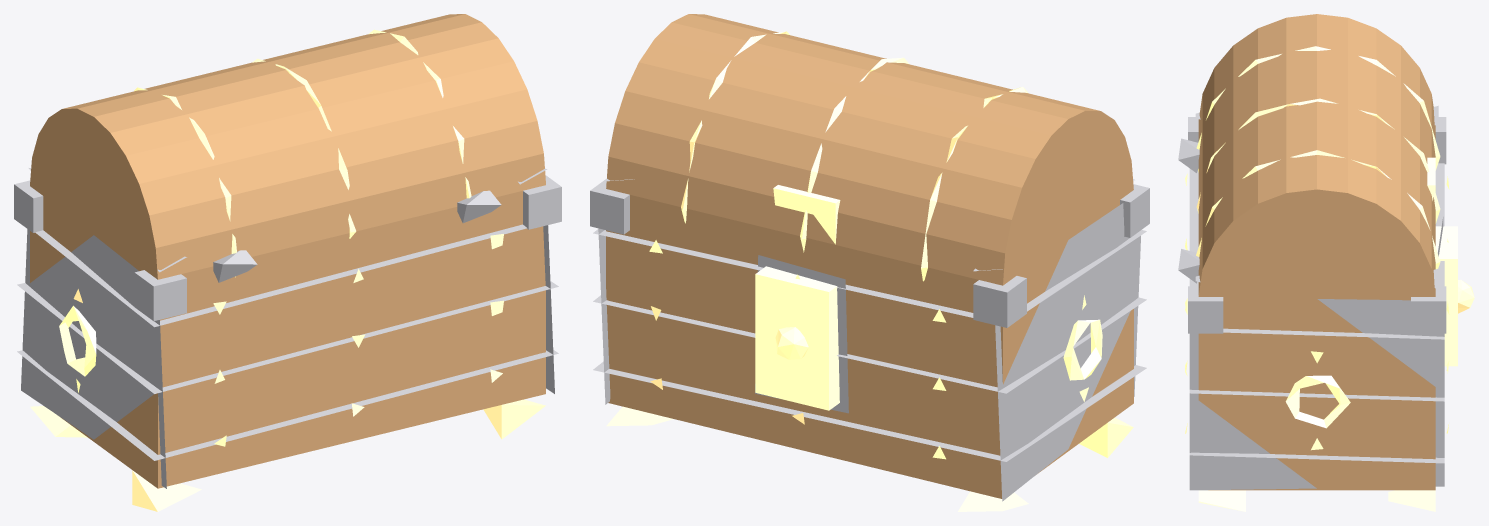
Rendered from 25-Ruinas-Templos_cofre_ancestral.glb.
3 views of the same model, side by side, from view 1: azimuth 30°, elevation 25°; view 2: azimuth 150°, elevation 25°; view 3: azimuth 270°, elevation 25° (orthographic). The views are drawn at different scales.
Visible parts, largest first — view 1: SM_Cofre_M_Madera_Cofre, SM_Cofre_M_Hierro_Cofre, SM_Cofre_M_Madera_Cofre_Osc, SM_Cofre_M_Bronce_Cofre, SM_Cofre_M_Oro_Cofre; view 2: SM_Cofre_M_Madera_Cofre, SM_Cofre_M_Hierro_Cofre, SM_Cofre_M_Oro_Cofre, SM_Cofre_M_Bronce_Cofre, SM_Cofre_M_Madera_Cofre_Osc, SM_Cofre_M_Gema_Cofre.001; view 3: SM_Cofre_M_Madera_Cofre, SM_Cofre_M_Hierro_Cofre, SM_Cofre_M_Oro_Cofre, SM_Cofre_M_Bronce_Cofre, SM_Cofre_M_Madera_Cofre_Osc, SM_Cofre_M_Gema_Cofre.001.
Part boxes in pixels (<box>): SM_Cofre_M_Madera_Cofre: <box>30,14,545,488</box>; SM_Cofre_M_Hierro_Cofre: <box>14,168,561,488</box>; SM_Cofre_M_Madera_Cofre_Osc: <box>30,399,545,511</box>; SM_Cofre_M_Bronce_Cofre: <box>73,29,503,446</box>; SM_Cofre_M_Oro_Cofre: <box>59,305,96,376</box>; SM_Cofre_M_Madera_Cofre: <box>606,14,1133,498</box>; SM_Cofre_M_Hierro_Cofre: <box>590,178,1149,501</box>; SM_Cofre_M_Oro_Cofre: <box>755,185,1102,410</box>; SM_Cofre_M_Bronce_Cofre: <box>649,31,1088,459</box>; SM_Cofre_M_Madera_Cofre_Osc: <box>606,406,1133,511</box>; SM_Cofre_M_Gema_Cofre.001: <box>775,327,808,359</box>; SM_Cofre_M_Madera_Cofre: <box>1198,14,1435,490</box>; SM_Cofre_M_Hierro_Cofre: <box>1178,105,1446,490</box>; SM_Cofre_M_Oro_Cofre: <box>1285,157,1457,428</box>; SM_Cofre_M_Bronce_Cofre: <box>1185,46,1449,450</box>; SM_Cofre_M_Madera_Cofre_Osc: <box>1198,490,1435,511</box>; SM_Cofre_M_Gema_Cofre.001: <box>1458,279,1474,313</box>.
Size of the model in its own units: 0.776 by 0.628 by 0.5001.
